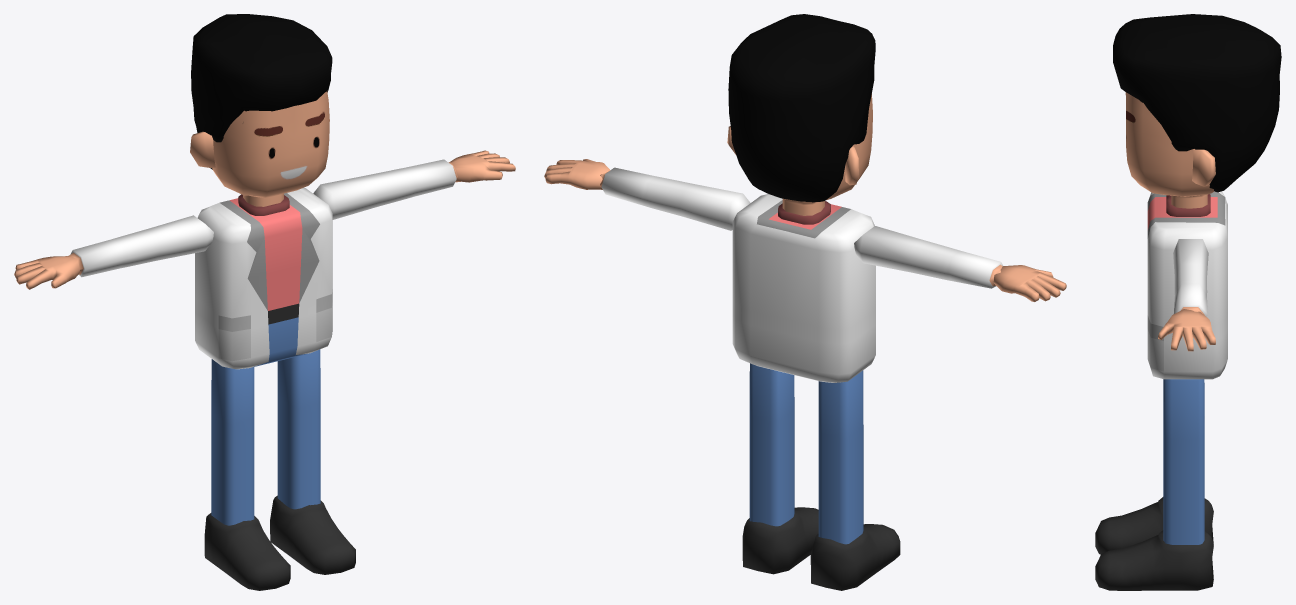
File: NPC_White01_BlackHair03.gltf
3 views of the same model, side by side, from view 1: azimuth 30°, elevation 25°; view 2: azimuth 150°, elevation 25°; view 3: azimuth 270°, elevation 25° (orthographic). The views are drawn at different scales.
Parts seen in each view (by area): view 1: NPC_Corpo_White1_BlackHair.003; view 2: NPC_Corpo_White1_BlackHair.003; view 3: NPC_Corpo_White1_BlackHair.003.
Boxes of the visible parts, bbox=[...] form: NPC_Corpo_White1_BlackHair.003: bbox=[14, 14, 515, 590]; NPC_Corpo_White1_BlackHair.003: bbox=[544, 14, 1066, 590]; NPC_Corpo_White1_BlackHair.003: bbox=[1095, 14, 1281, 590].
Size of the model in its own units: 2.31 by 2.31 by 0.7282.
1 material, 1 textured.
